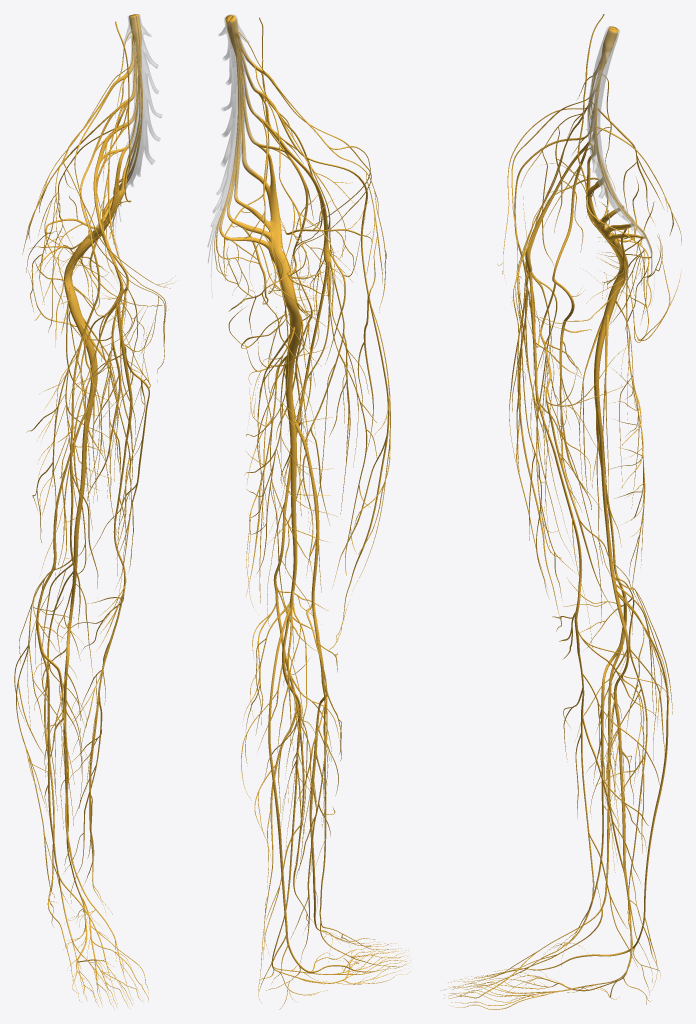
Rendered from nerves-leg-right.glb.
3 views of the same model, side by side, from view 1: azimuth 30°, elevation 25°; view 2: azimuth 150°, elevation 25°; view 3: azimuth 270°, elevation 25° (orthographic). The views are drawn at different scales.
Visible parts, largest first — view 1: Arachnoid mater, Tibial nerve.r, Lateral femoral cuteneous nerve.r, Sciatic nerve.r, Femoral nerve, muscular branches.r, Saphenous nerve (Medial crural cutaneous branches).r, Lateral sural cutaneous nerve.r, Posterior cutaneous nerve of the thigh.r, Deep fibular nerve.r, Saphenous branch of Femoralis nerve.r, Femoral nerve, anterior cutaneous branches.r, Common fibular nerve.r (+16 smaller); view 2: Arachnoid mater, Tibial nerve.r, Sciatic nerve.r, Saphenous nerve (Medial crural cutaneous branches).r, Lateral femoral cuteneous nerve.r, Femoral nerve, muscular branches.r, Posterior cutaneous nerve of the thigh.r, Lateral sural cutaneous nerve.r, Superior clunial nerve (posterior rami).r, Sacral plexus.r, Sural nerve.r, Femoral nerve, anterior cutaneous branches.r (+13 smaller); view 3: Tibial nerve.r, Saphenous nerve (Medial crural cutaneous branches).r, Arachnoid mater, Sciatic nerve.r, Lateral femoral cuteneous nerve.r, Femoral nerve, muscular branches.r, Lateral sural cutaneous nerve.r, Saphenous branch of Femoralis nerve.r, Posterior cutaneous nerve of the thigh.r, Obturator nerve, anterior br, cutaneous br.r, Deep fibular nerve.r, Femoral nerve, anterior cutaneous branches.r (+10 smaller).
Boxes of the visible parts, box(x1,y1,x2,y2) form: Arachnoid mater: box(112, 14, 161, 255); Tibial nerve.r: box(27, 401, 105, 897); Lateral femoral cuteneous nerve.r: box(26, 112, 114, 627); Sciatic nerve.r: box(52, 236, 118, 502); Femoral nerve, muscular branches.r: box(57, 261, 143, 576); Saphenous nerve (Medial crural cutaneous branches).r: box(61, 568, 125, 915); Lateral sural cutaneous nerve.r: box(14, 567, 73, 895); Posterior cutaneous nerve of the thigh.r: box(37, 215, 116, 574); Deep fibular nerve.r: box(37, 636, 95, 908); Saphenous branch of Femoralis nerve.r: box(113, 302, 133, 604); Femoral nerve, anterior cutaneous branches.r: box(108, 302, 133, 588); Common fibular nerve.r: box(36, 403, 89, 636); Arachnoid mater: box(207, 14, 260, 298); Tibial nerve.r: box(245, 415, 318, 961); Sciatic nerve.r: box(257, 251, 327, 533); Saphenous nerve (Medial crural cutaneous branches).r: box(241, 579, 339, 983); Lateral femoral cuteneous nerve.r: box(273, 104, 390, 629); Femoral nerve, muscular branches.r: box(287, 215, 377, 575); Posterior cutaneous nerve of the thigh.r: box(244, 220, 342, 634); Lateral sural cutaneous nerve.r: box(290, 601, 349, 961); Superior clunial nerve (posterior rami).r: box(241, 60, 357, 291); Sacral plexus.r: box(228, 205, 281, 266); Sural nerve.r: box(268, 606, 312, 972); Femoral nerve, anterior cutaneous branches.r: box(267, 266, 349, 578); Tibial nerve.r: box(592, 408, 668, 967); Saphenous nerve (Medial crural cutaneous branches).r: box(550, 603, 669, 982); Arachnoid mater: box(587, 26, 654, 305); Sciatic nerve.r: box(579, 237, 639, 533); Lateral femoral cuteneous nerve.r: box(509, 104, 593, 616); Femoral nerve, muscular branches.r: box(523, 196, 564, 558); Lateral sural cutaneous nerve.r: box(562, 572, 664, 944); Saphenous branch of Femoralis nerve.r: box(529, 271, 592, 647); Posterior cutaneous nerve of the thigh.r: box(606, 222, 645, 602); Obturator nerve, anterior br, cutaneous br.r: box(546, 347, 639, 615); Deep fibular nerve.r: box(565, 641, 624, 945); Femoral nerve, anterior cutaneous branches.r: box(516, 271, 577, 599).
Size of the model in its own units: 0.1858 by 1.15 by 0.2487.
